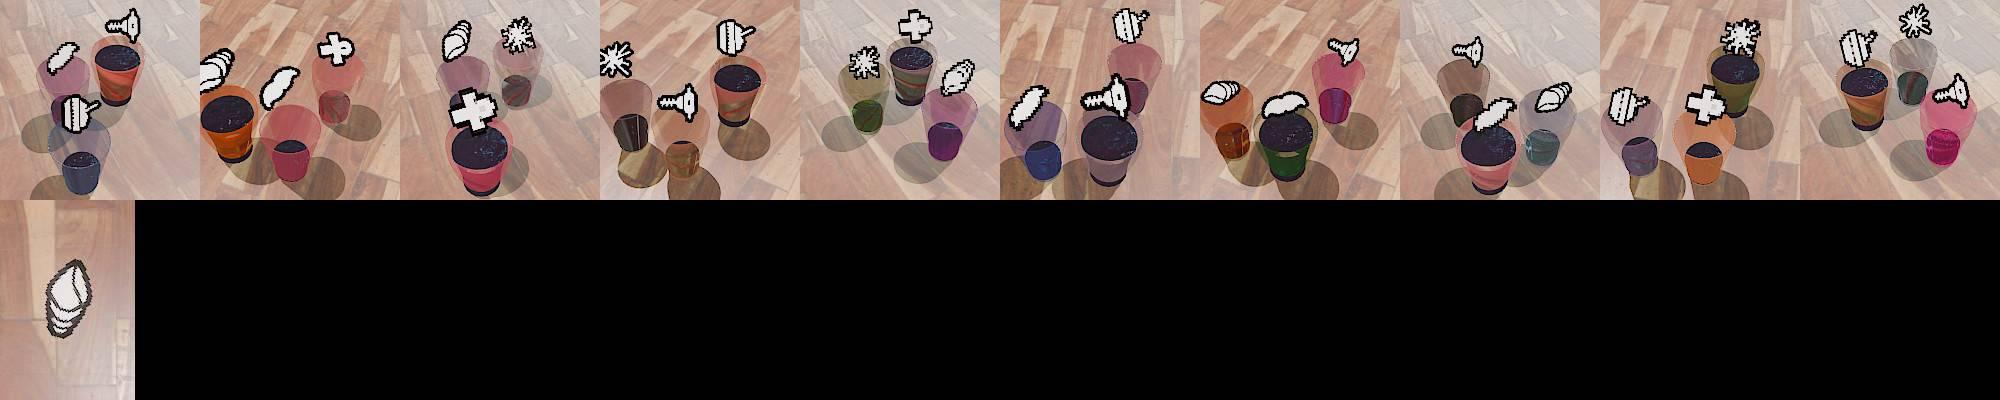icon: (43, 258, 94, 341), (1077, 72, 1130, 119), (449, 87, 499, 134), (1009, 82, 1050, 131), (259, 65, 301, 110), (1605, 85, 1651, 126), (1470, 94, 1518, 133), (56, 92, 100, 134), (656, 82, 700, 124), (1720, 17, 1762, 58), (199, 47, 236, 93), (1683, 85, 1727, 123), (497, 15, 537, 56), (716, 18, 756, 58), (1260, 89, 1311, 120), (1839, 28, 1878, 68), (938, 58, 976, 97), (1931, 72, 1971, 109), (1112, 7, 1150, 45), (104, 7, 142, 45), (599, 40, 634, 80), (317, 31, 355, 67), (1534, 80, 1573, 114), (441, 20, 472, 62), (847, 44, 882, 80), (1898, 4, 1932, 41), (898, 8, 933, 43), (46, 40, 81, 74), (1326, 36, 1360, 67), (1202, 78, 1242, 104), (1452, 36, 1484, 68)
